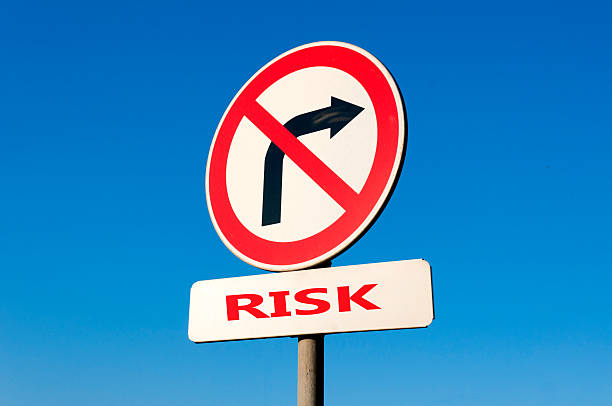saga_donulmez: (196, 44, 410, 266)
